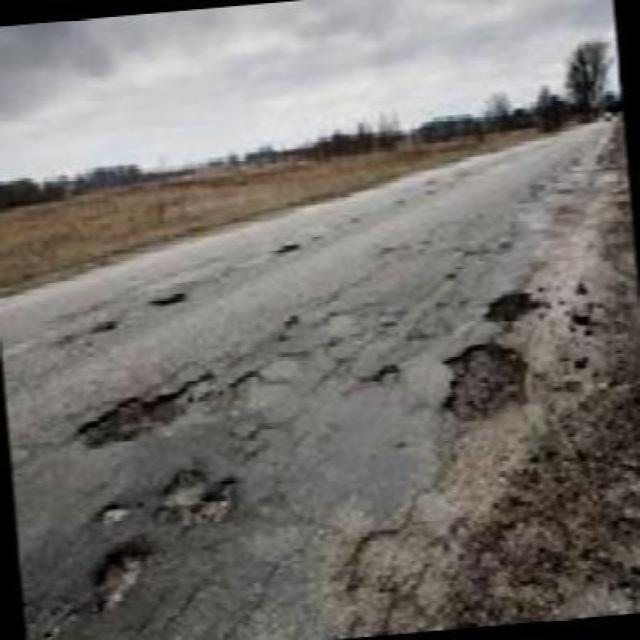Pothole: (70, 359, 226, 458), (429, 338, 535, 428), (153, 454, 259, 533), (86, 544, 154, 622), (477, 284, 551, 333), (266, 311, 310, 361), (148, 282, 201, 317), (366, 353, 416, 389), (84, 493, 140, 521), (257, 239, 305, 269), (86, 318, 121, 342)
